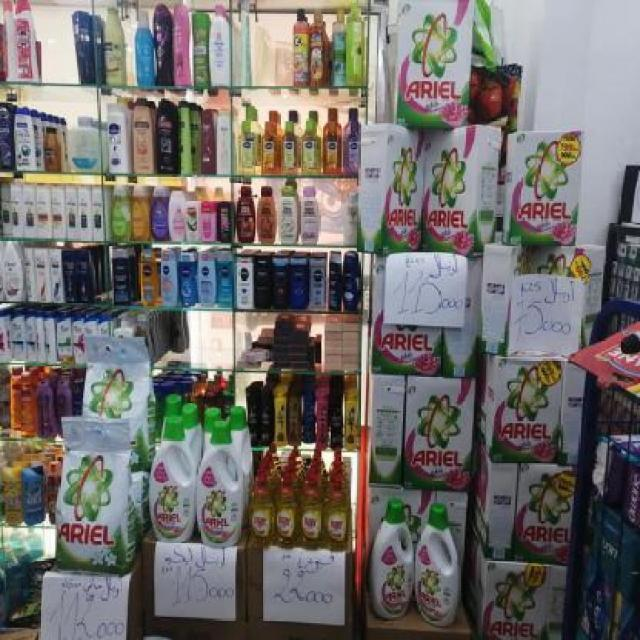Detergent: (52, 418, 134, 574), (418, 122, 500, 253), (394, 0, 472, 126), (506, 125, 584, 243), (397, 373, 475, 491), (486, 353, 563, 461), (359, 127, 423, 256), (149, 402, 198, 546), (412, 493, 463, 630), (514, 462, 576, 565), (198, 417, 246, 545), (372, 496, 416, 622), (482, 569, 550, 640)
